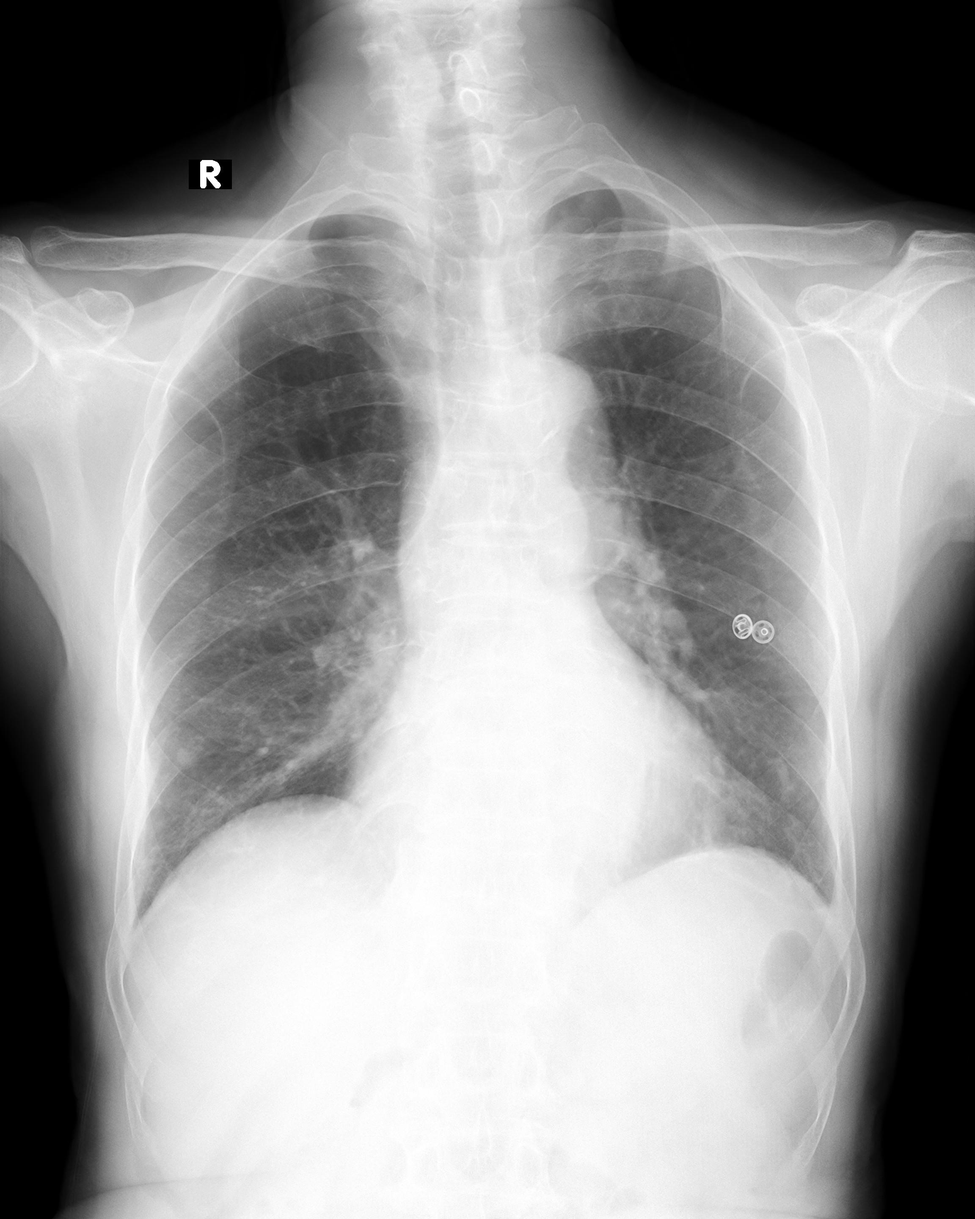Aortic enlargement: (504, 351, 607, 507)
Pulmonary fibrosis: (768, 751, 792, 798)
